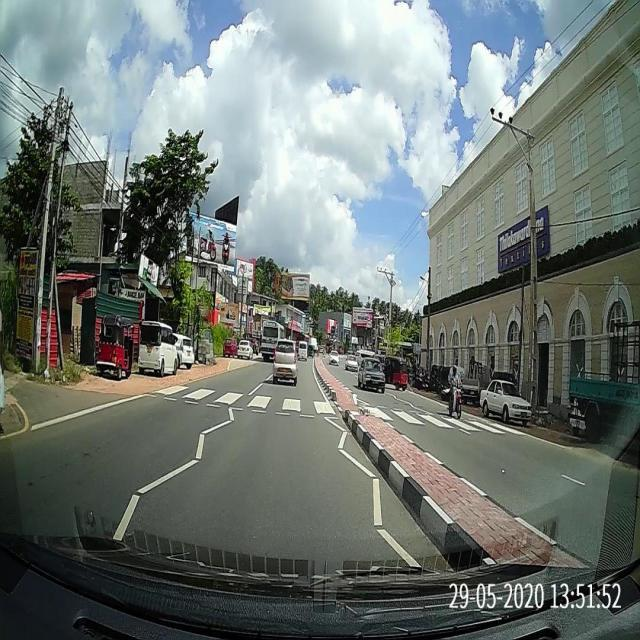Crosswalk: (142, 381, 528, 437)
